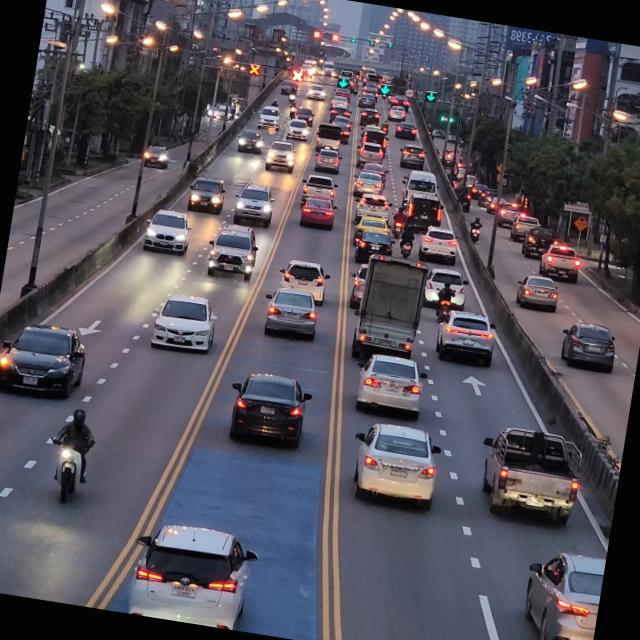Vehicle: (124, 518, 264, 633), (464, 419, 590, 530), (350, 247, 433, 369), (346, 418, 446, 514), (510, 543, 606, 640), (0, 313, 92, 410), (222, 364, 318, 456), (342, 348, 432, 422), (143, 283, 226, 362), (427, 304, 501, 372), (552, 315, 624, 380), (200, 220, 266, 286), (254, 286, 325, 342), (270, 254, 334, 307), (136, 207, 194, 264), (509, 269, 564, 319), (228, 180, 278, 230), (181, 171, 227, 218), (535, 242, 582, 284)
